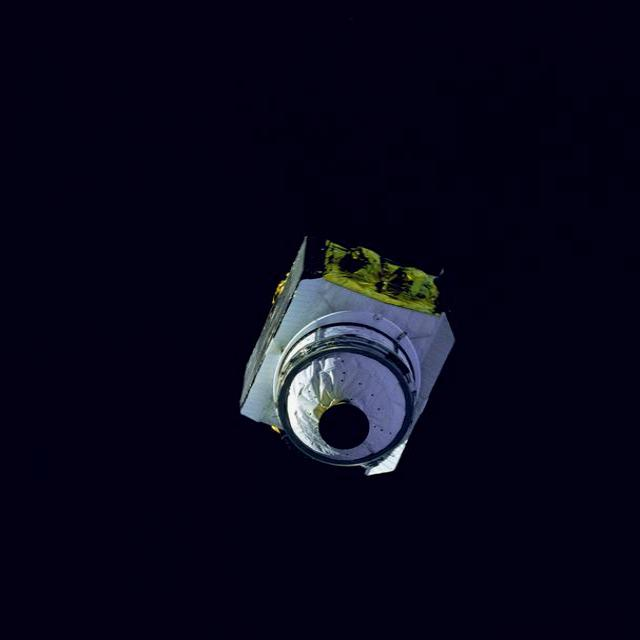satellite: (241, 238, 454, 474)
